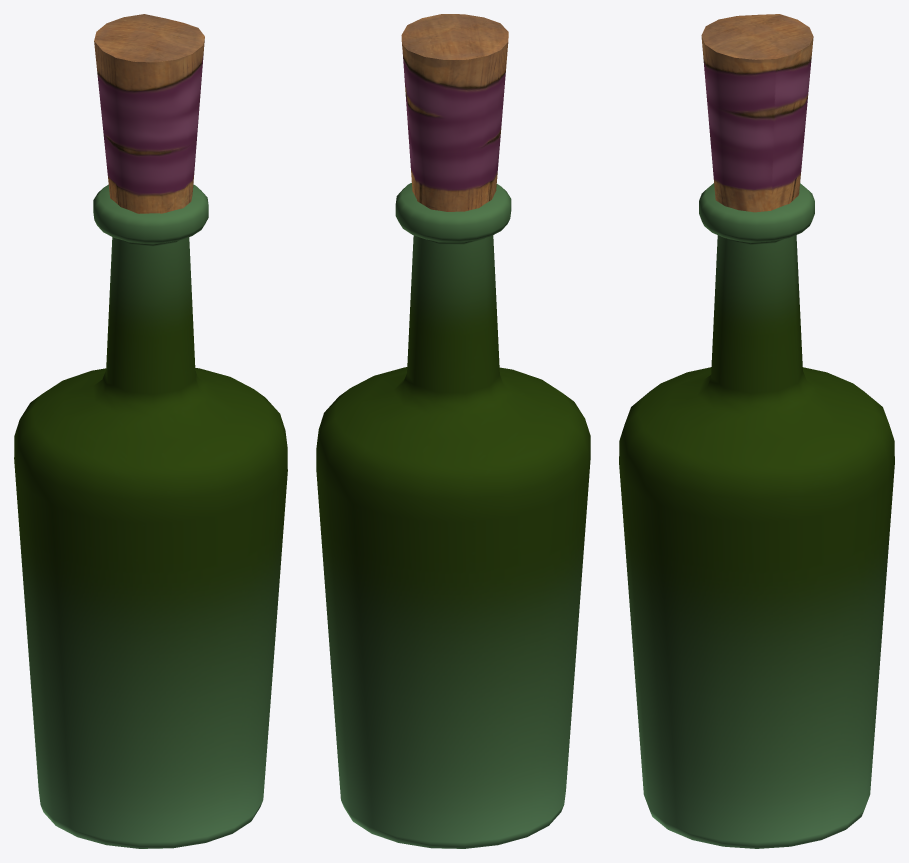
Rendered from SM_Potion_Props_Bottle_Medium_02_A.fbx.
3 renders of one model, left to right at view 1: azimuth 30°, elevation 25°; view 2: azimuth 150°, elevation 25°; view 3: azimuth 270°, elevation 25°, orthographic.
Visible parts, largest first — view 1: SM_Potion_Props_Bottle_Medium_02_A_LOD0; view 2: SM_Potion_Props_Bottle_Medium_02_A_LOD0; view 3: SM_Potion_Props_Bottle_Medium_02_A_LOD0.
Part boxes in pixels (left/top/right/bottom): SM_Potion_Props_Bottle_Medium_02_A_LOD0: left=14, top=14, right=287, bottom=848; SM_Potion_Props_Bottle_Medium_02_A_LOD0: left=316, top=14, right=590, bottom=848; SM_Potion_Props_Bottle_Medium_02_A_LOD0: left=619, top=14, right=894, bottom=848.
Size of what is drawn, in the model's own units: 9.9 by 30.65 by 9.9.
